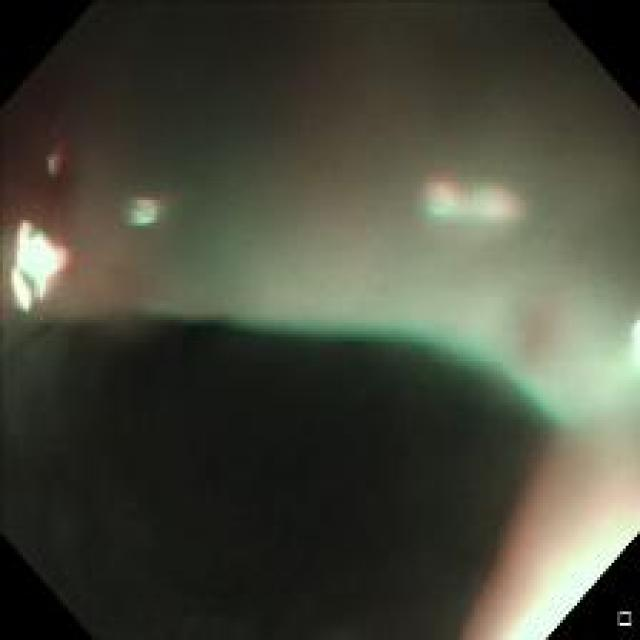color misalignment: (418, 171, 516, 239), (119, 192, 168, 239), (50, 146, 62, 172)
contrast: (9, 316, 542, 628), (5, 11, 358, 199)
saturation: (520, 554, 610, 630)
specularity: (9, 220, 64, 302)
